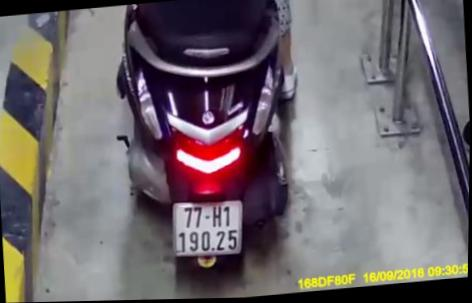LP: (168, 197, 245, 262)
